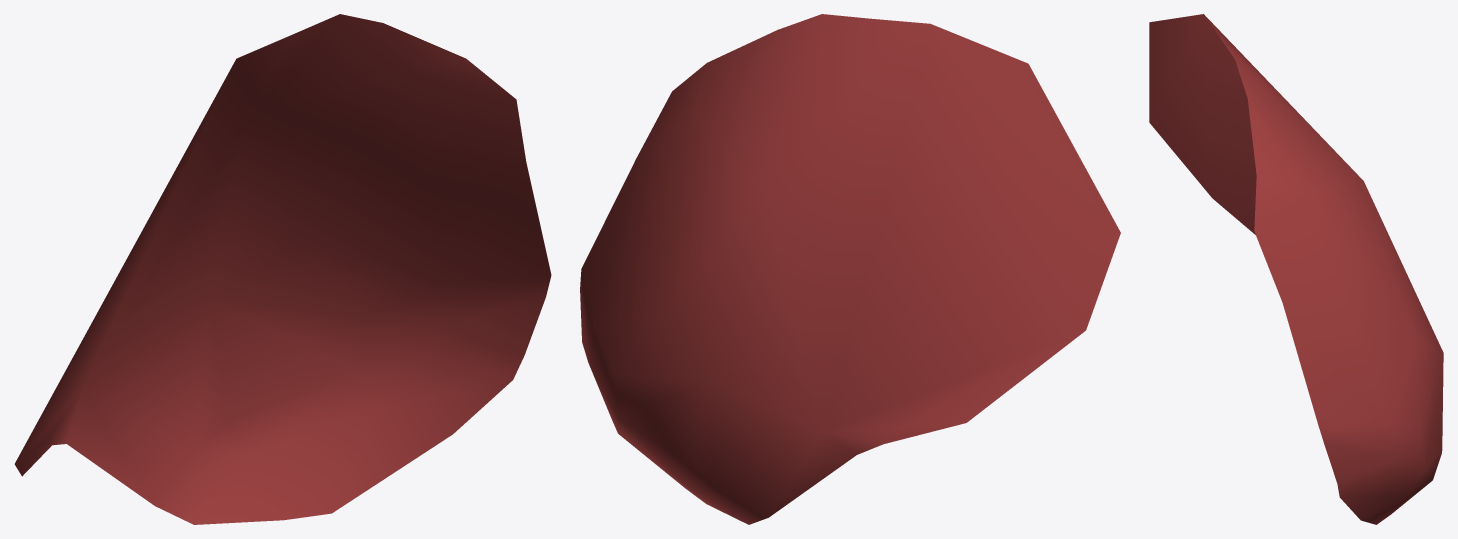
The model's file is fibularis-brevis-muscle-er.glb.
3 renders of one model, left to right at view 1: azimuth 30°, elevation 25°; view 2: azimuth 150°, elevation 25°; view 3: azimuth 270°, elevation 25°, orthographic. The views are drawn at different scales.
Parts seen in each view (by area): view 1: Fibularis brevis muscle.er; view 2: Fibularis brevis muscle.er; view 3: Fibularis brevis muscle.er.
Part boxes in pixels (left/top/right/bottom): Fibularis brevis muscle.er: left=14, top=14, right=551, bottom=524; Fibularis brevis muscle.er: left=580, top=14, right=1120, bottom=524; Fibularis brevis muscle.er: left=1149, top=14, right=1443, bottom=524.
Bounding box in the file's own units: 0.00607 × 0.00565 × 0.00344.
